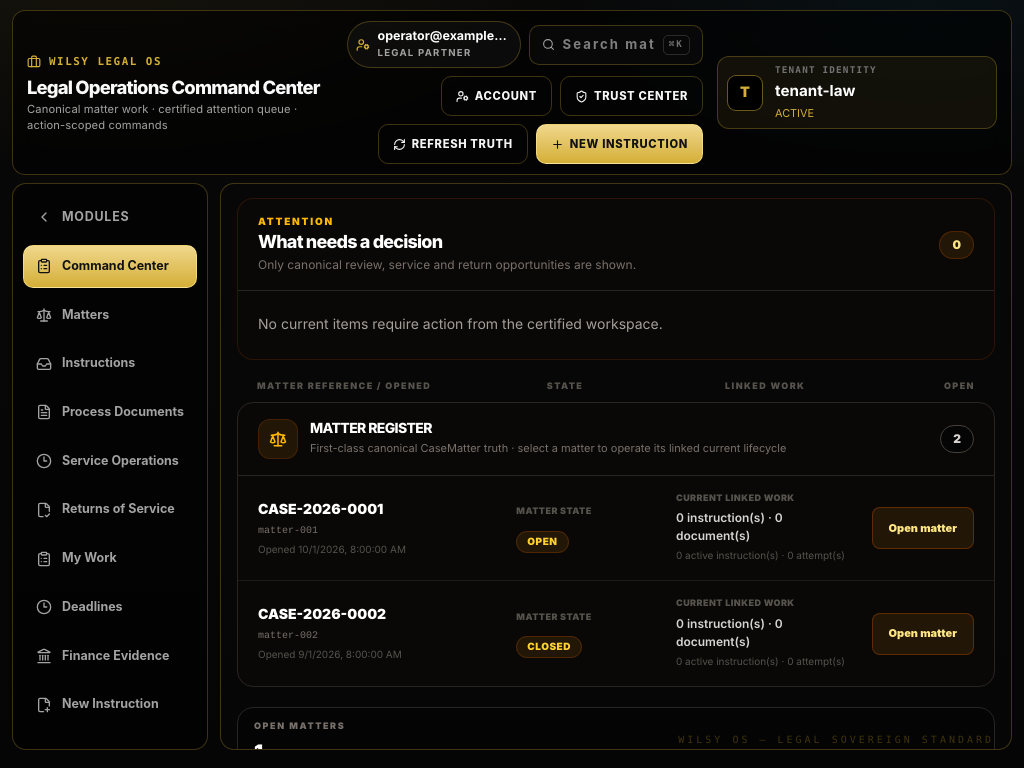
Test: D4B Legal matter deadline work queue › shows bounded deadline failure without fabricating queue success
Click the button "Deadlines": {"x": 110, "y": 607} [23,586,197,629]
(page scrolled)
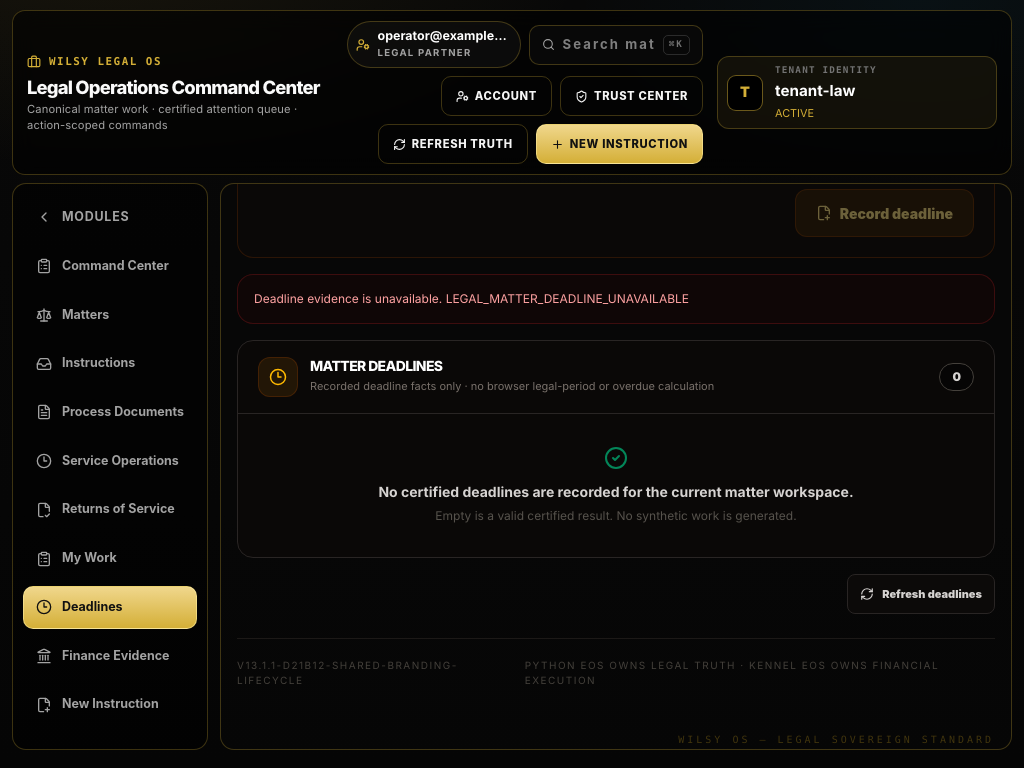
Result: the text "Deadline evidence is unavailable" is shown at [254,292,446,306]
Result: the text "LEGAL_MATTER_DEADLINE_UNAVAILABLE" is shown at [446,292,689,306]
Result: the text "No certified deadlines are recorded for the current matter workspace." is shown at [378,484,854,502]
